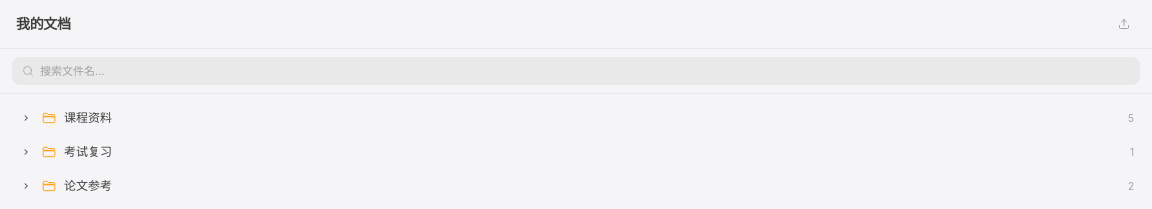
Test: FileManager › 空搜索结果显示空状态
Type "zzz_nonexistent_file" into the field with placeholder "搜索文件名..." at x=576, y=71, box [12,57,1140,85]
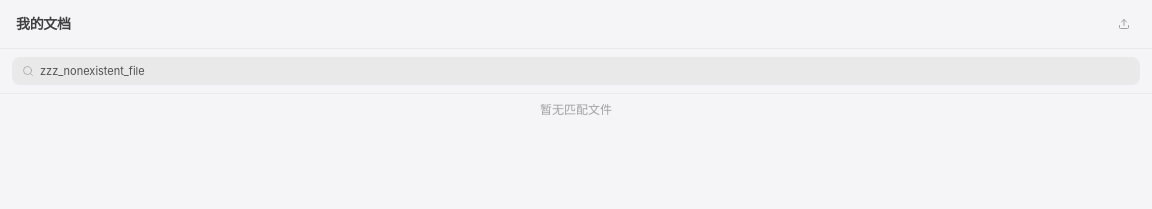
Check: the text "暂无匹配文件" is shown, box [540,102,612,118]
